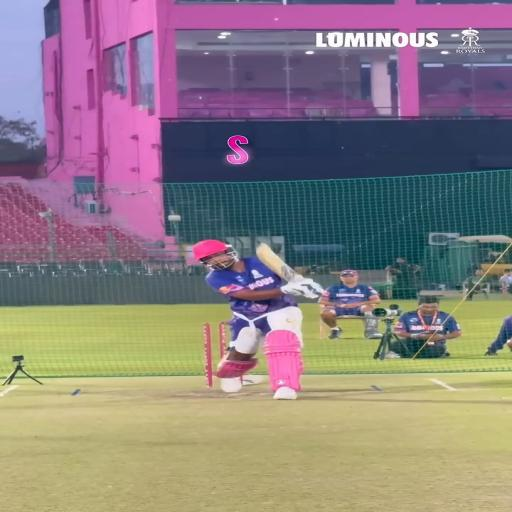Cricket bat: (257, 243, 302, 281)
